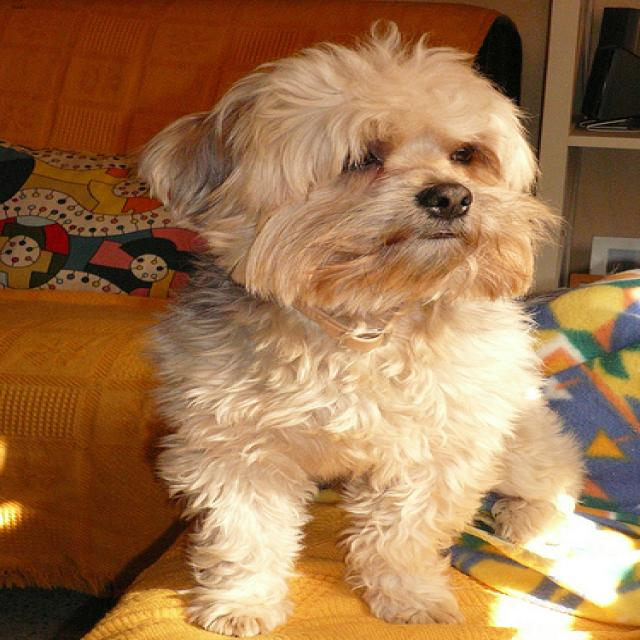dog-havanese: (118, 9, 604, 637)
